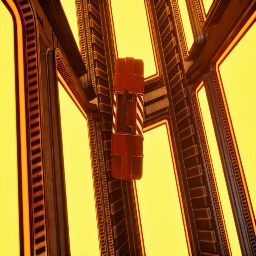FirstAidBox ,: (111, 57, 144, 180)
